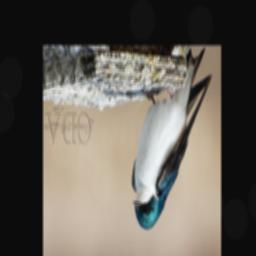Swallow: (131, 47, 213, 230)
